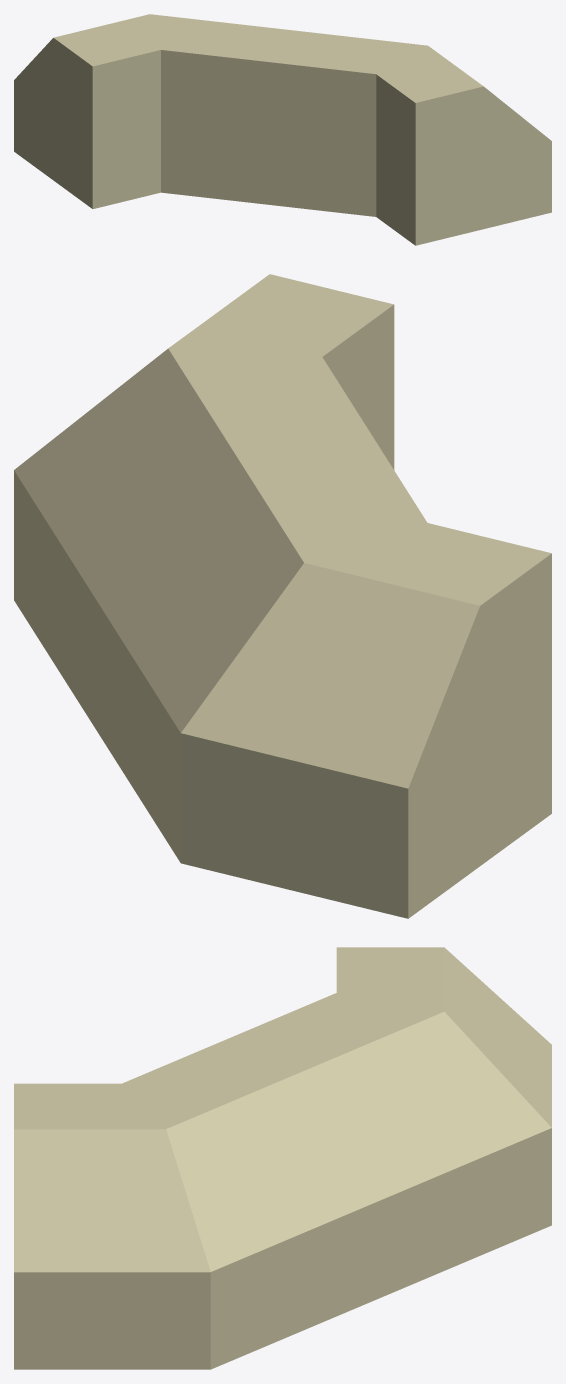
The model's file is Shape_Trim_90_Out.FBX.
3 views of the same model, one above another, from view 1: azimuth 30°, elevation 25°; view 2: azimuth 150°, elevation 25°; view 3: azimuth 270°, elevation 25° (orthographic). The views are drawn at different scales.
Parts seen in each view (by area): view 1: Shape_Trim_90_Out; view 2: Shape_Trim_90_Out; view 3: Shape_Trim_90_Out.
Part boxes in pixels (left/top/right/bottom): Shape_Trim_90_Out: left=14, top=14, right=551, bottom=245; Shape_Trim_90_Out: left=14, top=274, right=551, bottom=918; Shape_Trim_90_Out: left=14, top=947, right=551, bottom=1369.
Size of the model in its own units: 50 by 50 by 20.
